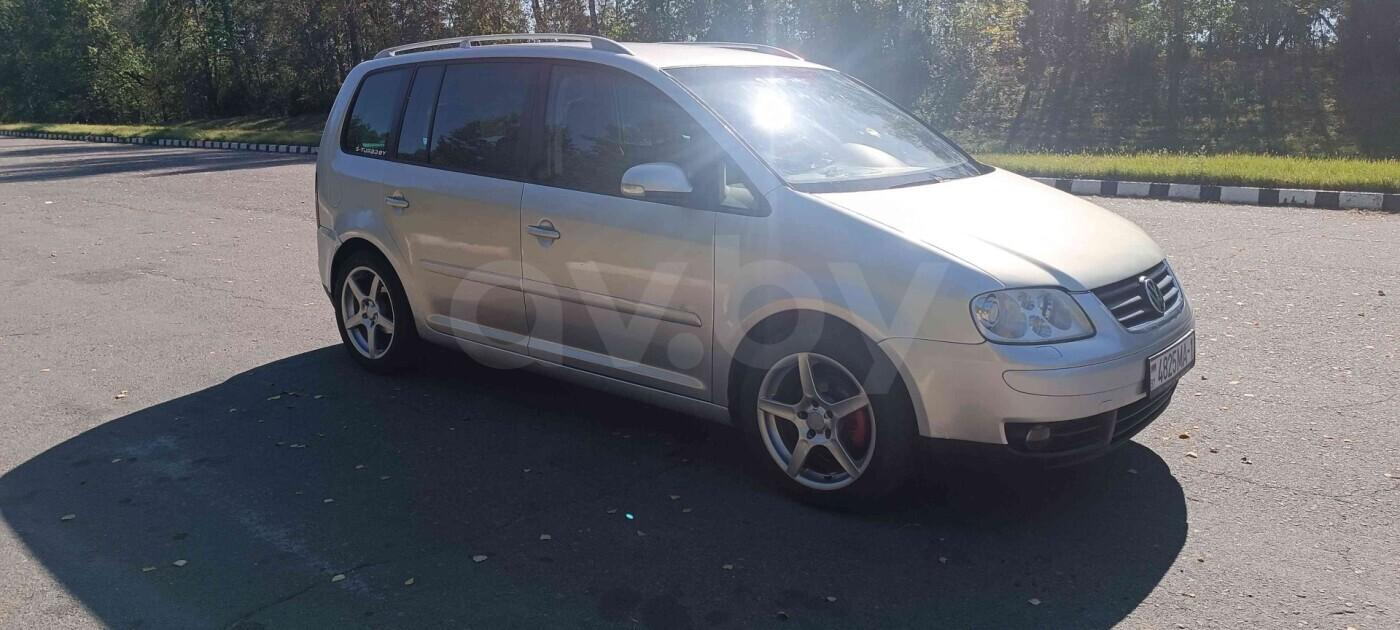Touran_2003-2006: (313, 33, 1199, 504)
